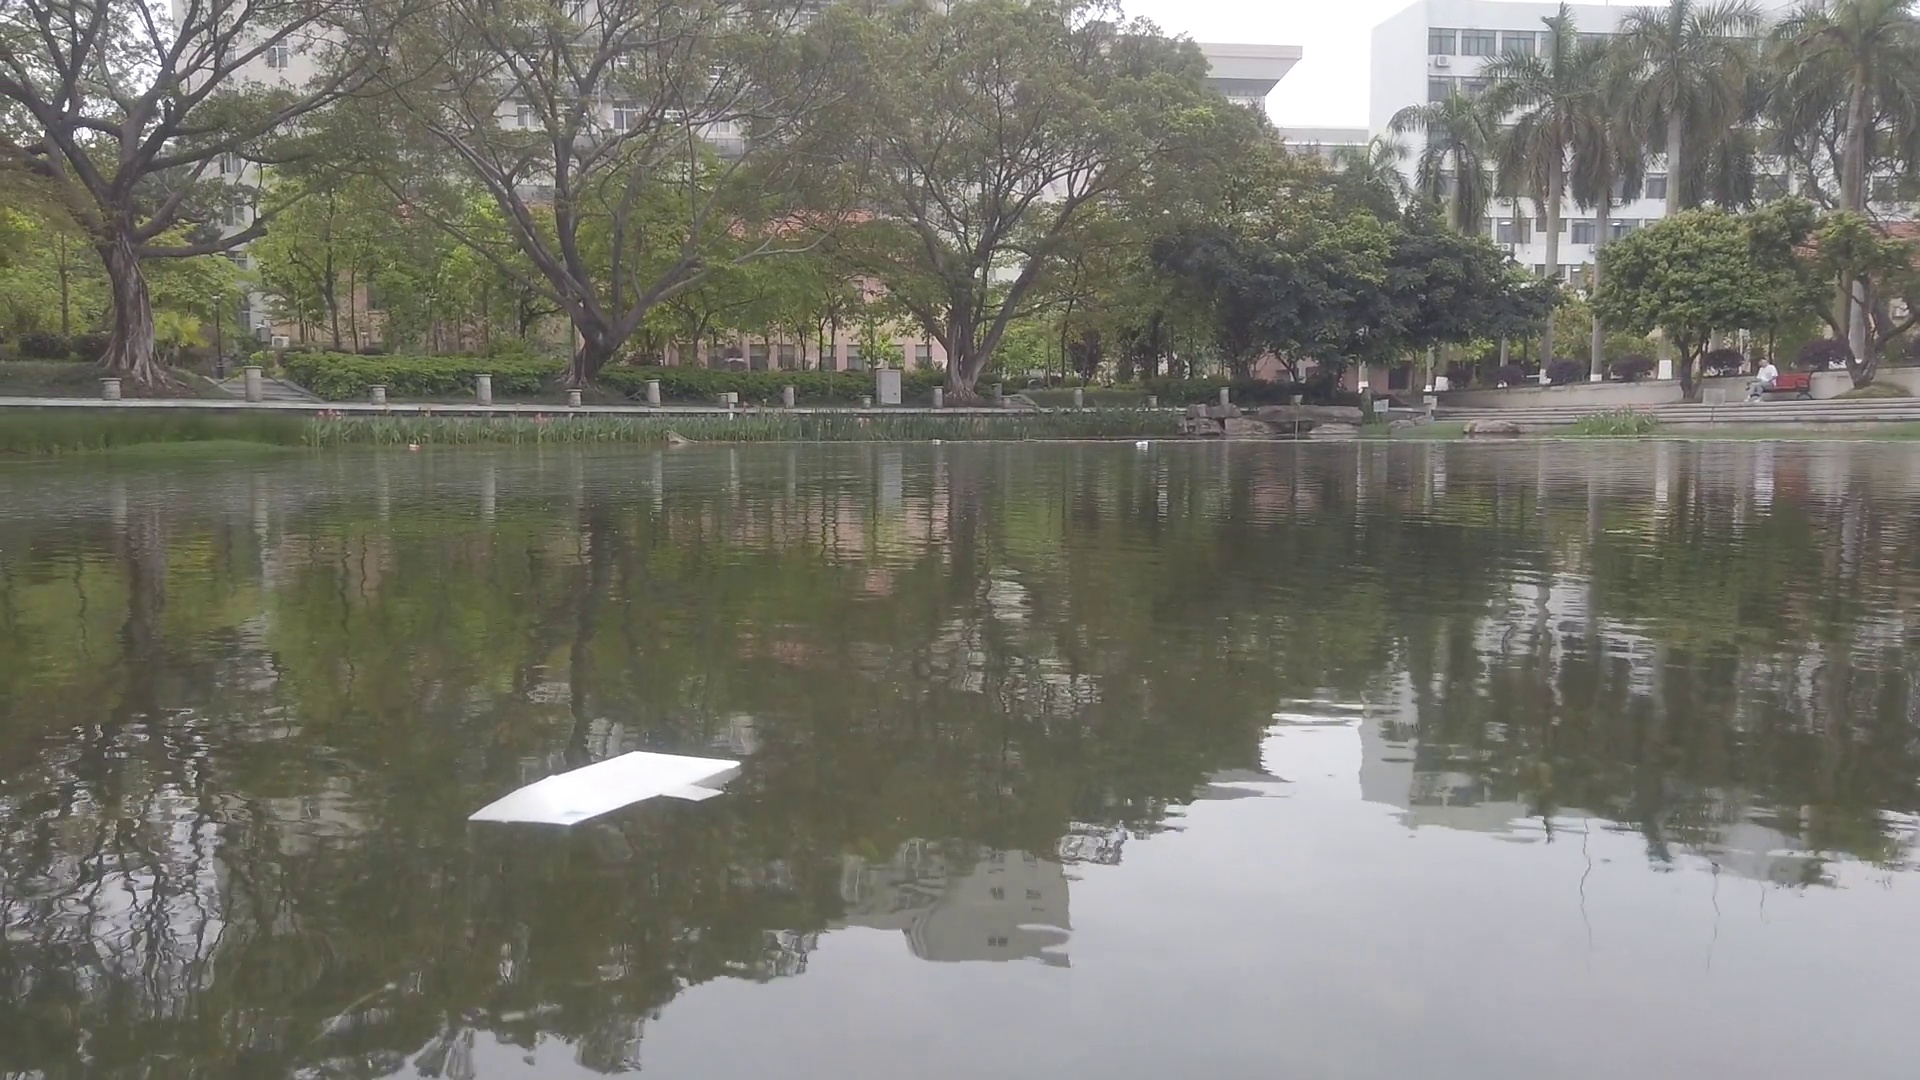bottle: (1135, 440, 1154, 455), (407, 440, 418, 454), (932, 436, 945, 444)
paper: (477, 746, 745, 851)
